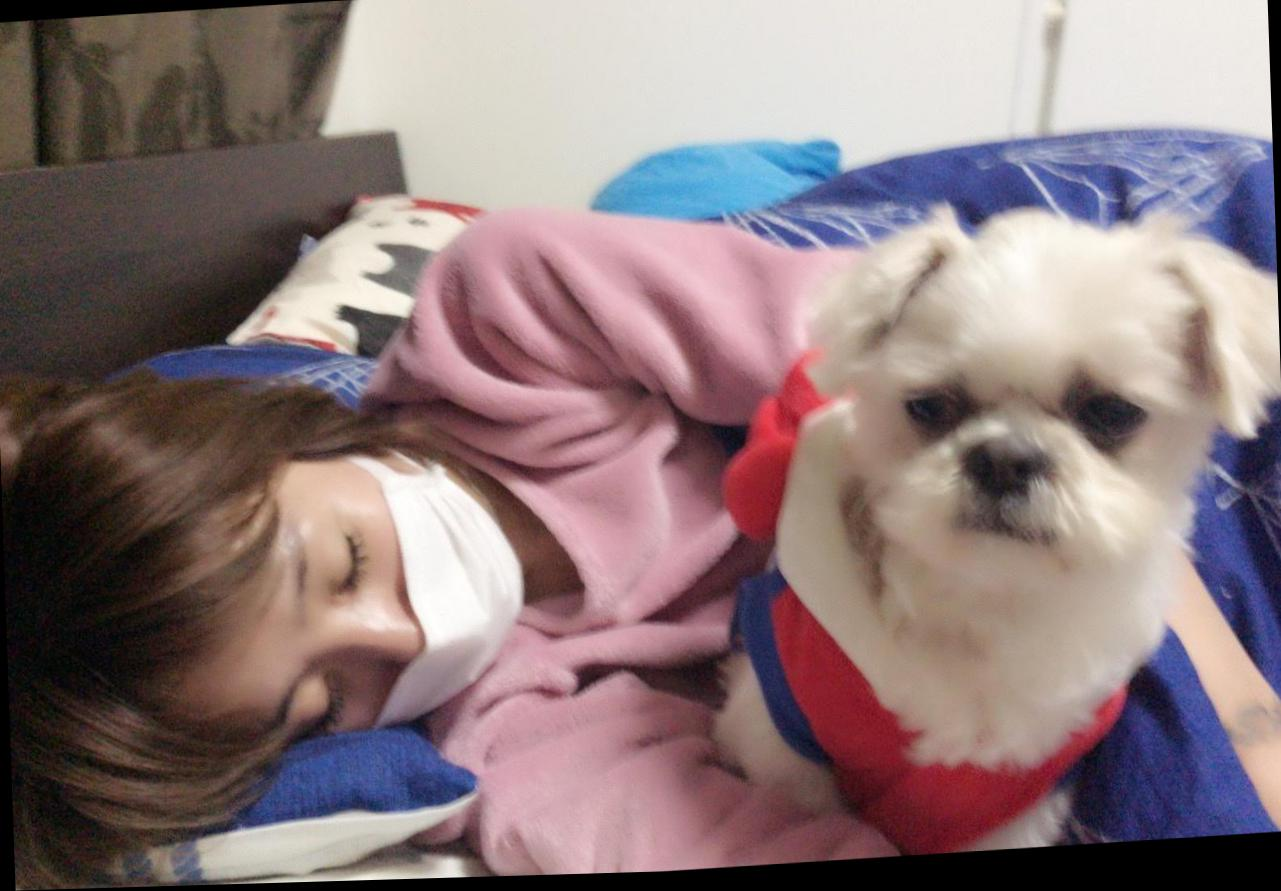WRONG: (212, 446, 531, 772)
